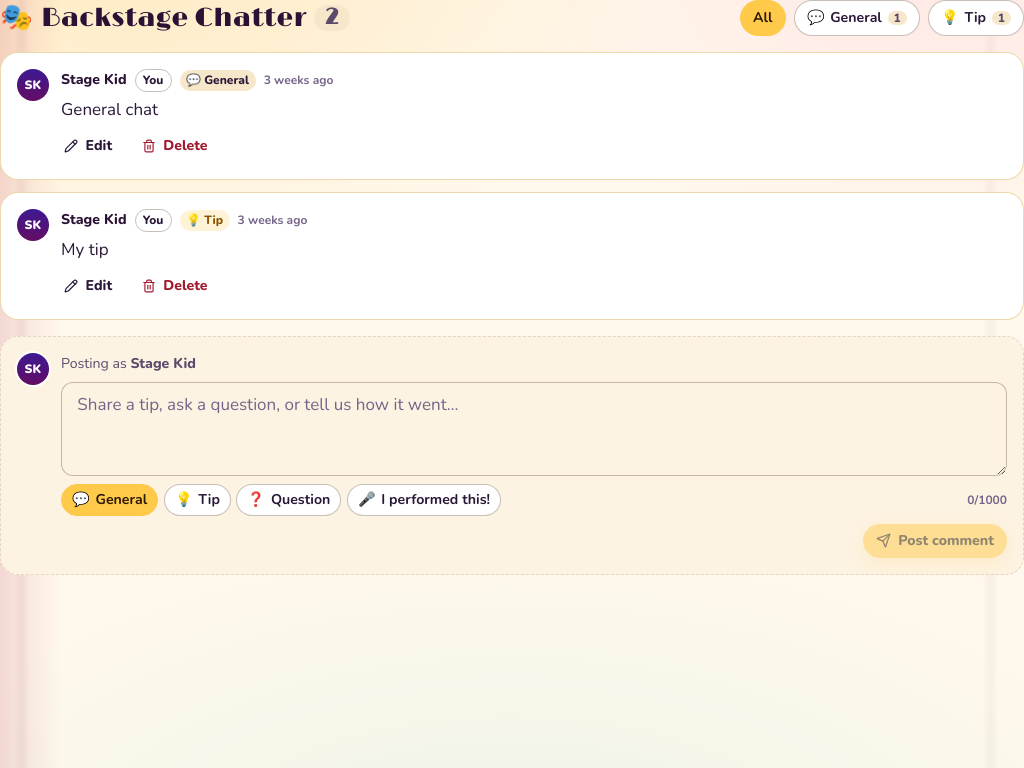
Test case: CommentsSection › falls back to “All” when the active tag filter empties, instead of hiding the rest
The image size is (1024, 768).
Click the button with test id "comment-filter-tip".
click(976, 18)  # box x1=928 y1=0 x2=1023 y2=36
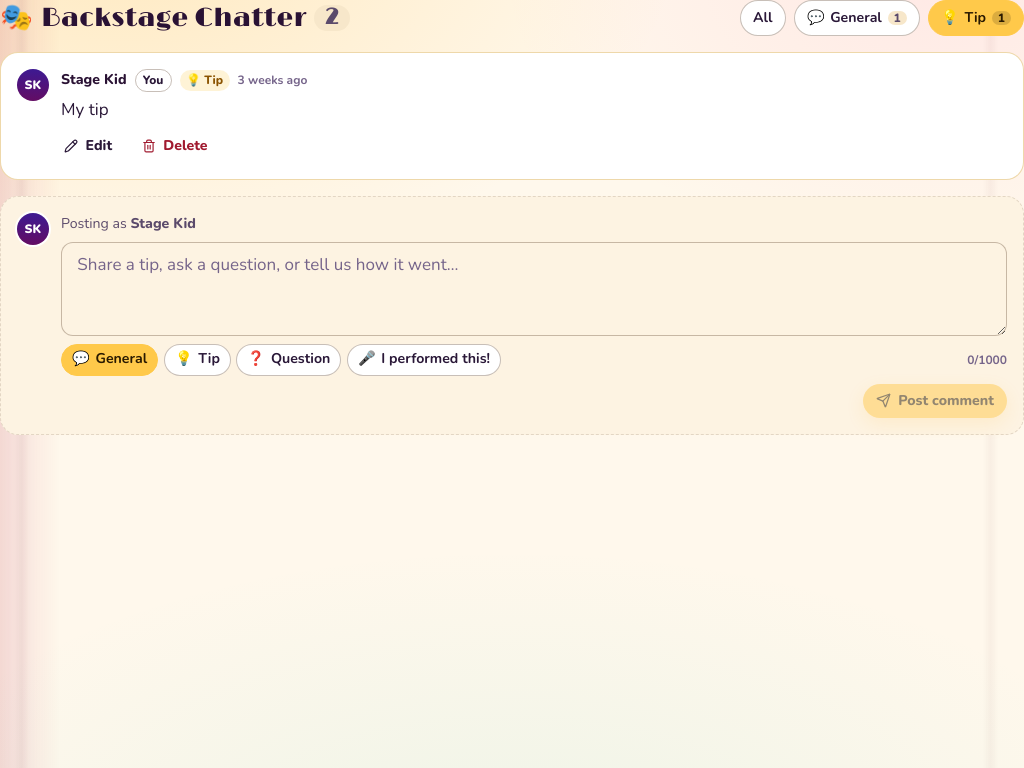
Click the button with test id "comment-delete".
click(175, 146)  # box x1=129 y1=129 x2=221 y2=163
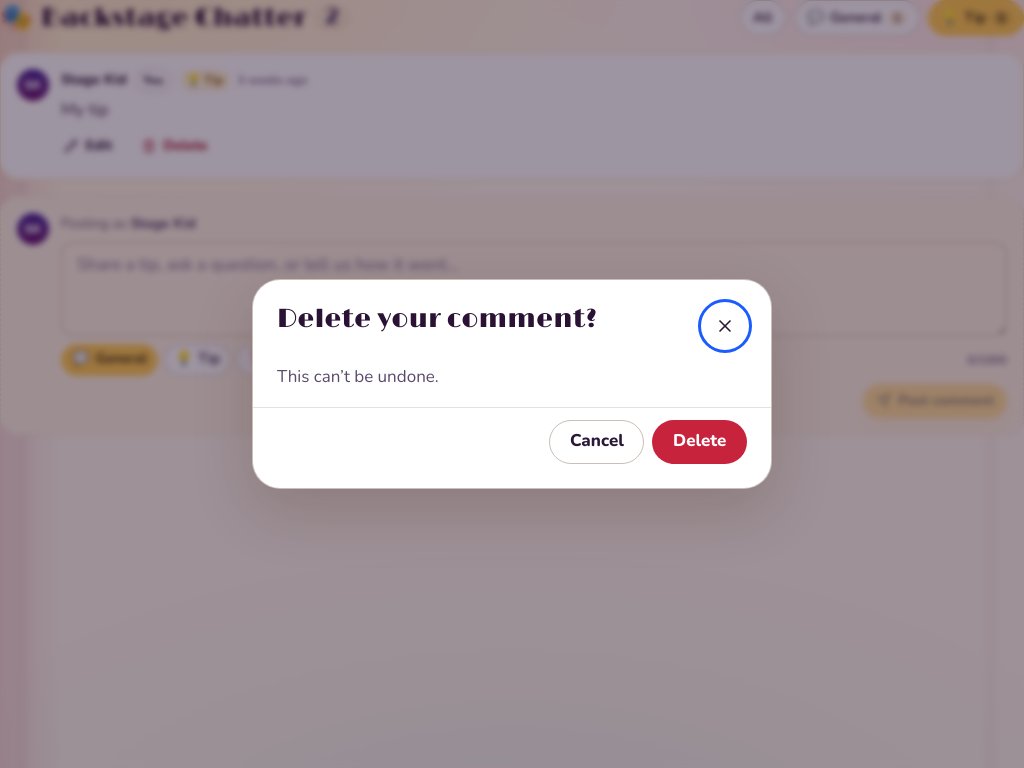
Click the button with test id "confirm-button".
click(700, 442)  # box x1=652 y1=420 x2=747 y2=464
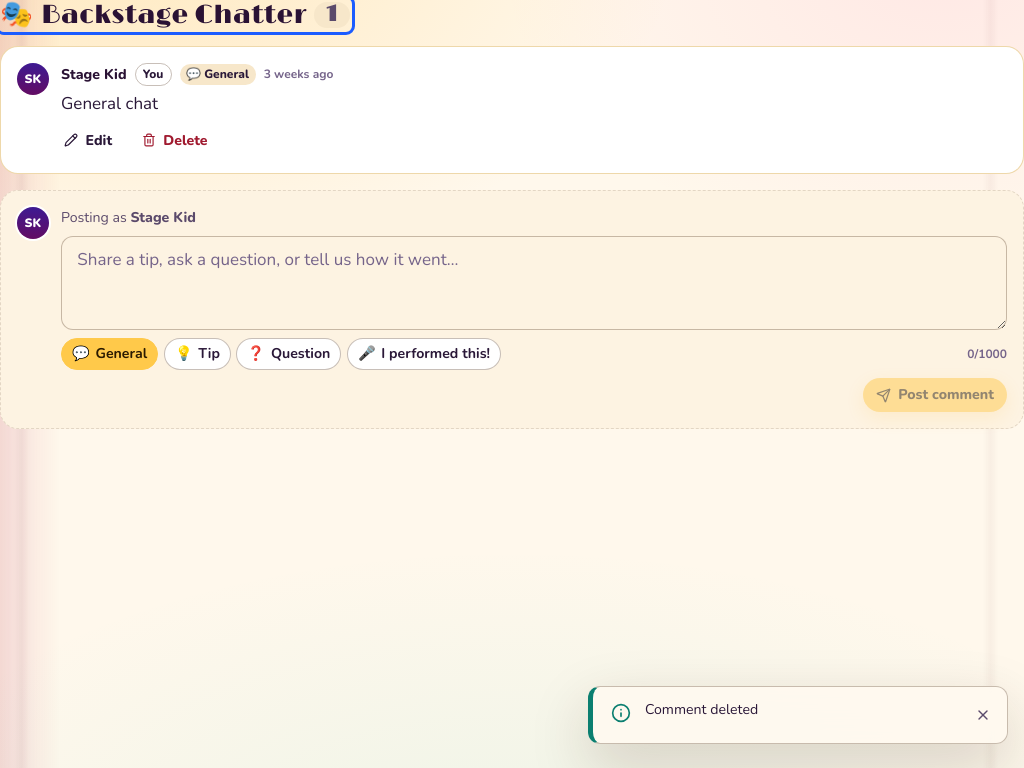
Expected: the text "My tip" is gone
Expected: the text "General chat" is shown, x1=61 y1=92 x2=158 y2=116
Expected: the button with test id "comment-filter-all" is gone
